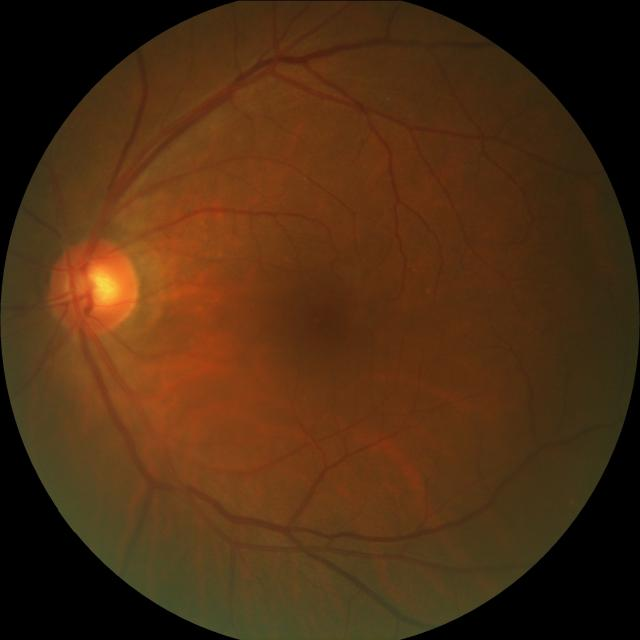OC: (74, 264, 118, 309)
OD: (49, 238, 143, 334)
